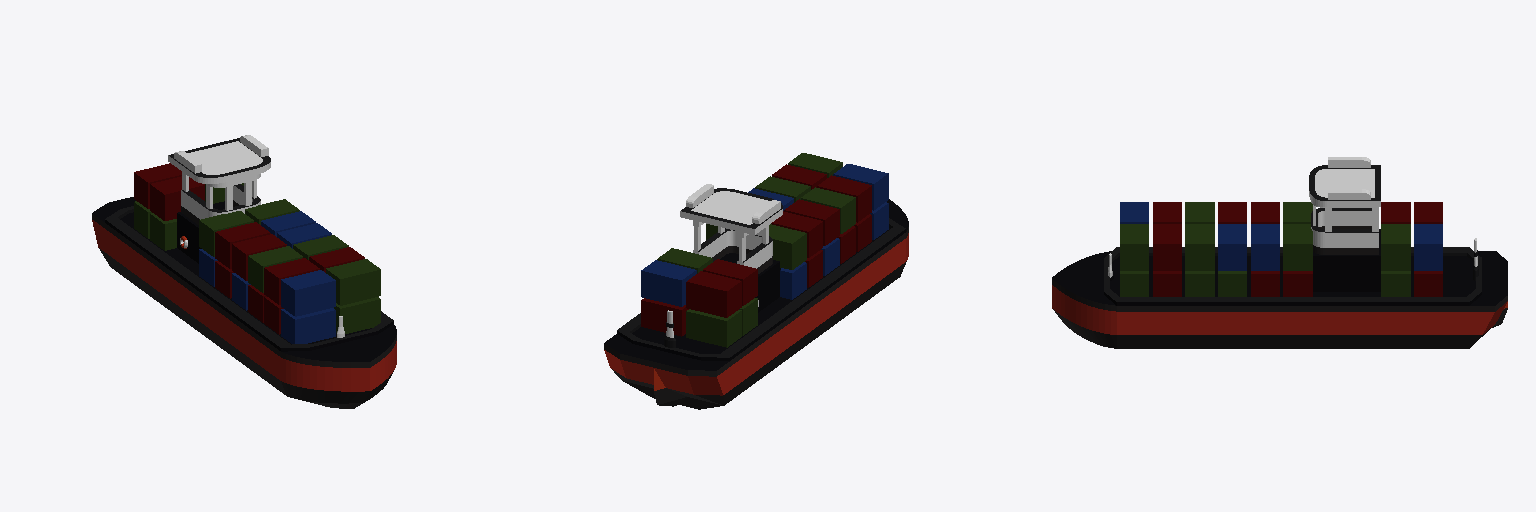
The model's file is Cargo-Ship2.obj.
3 views of the same model, side by side, from view 1: azimuth 30°, elevation 25°; view 2: azimuth 150°, elevation 25°; view 3: azimuth 270°, elevation 25° (orthographic).
Visible parts, largest first — view 1: mergedBlocks; view 2: mergedBlocks; view 3: mergedBlocks.
Part boxes in pixels (x1,y1,x2,y2): mergedBlocks: (92, 135, 396, 408); mergedBlocks: (604, 153, 908, 409); mergedBlocks: (1052, 157, 1507, 348).
Size of the model in its own units: 2 by 2.75 by 7.